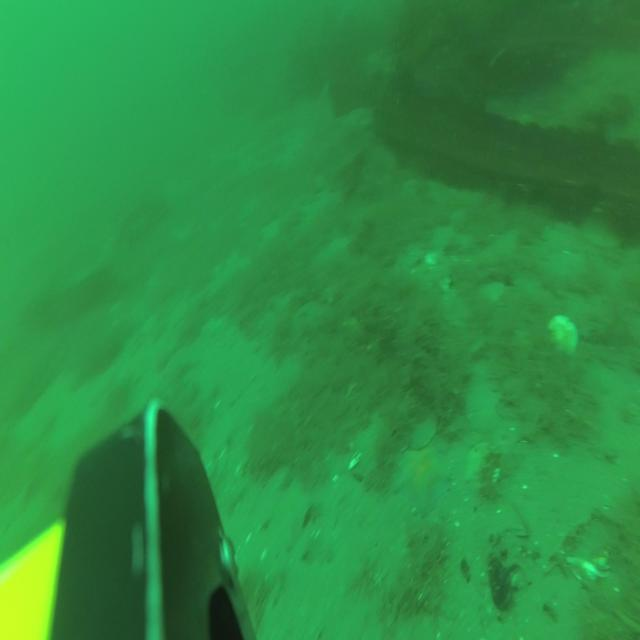scallop: (546, 312, 578, 361), (584, 212, 620, 248)
starfish: (392, 444, 446, 510)
